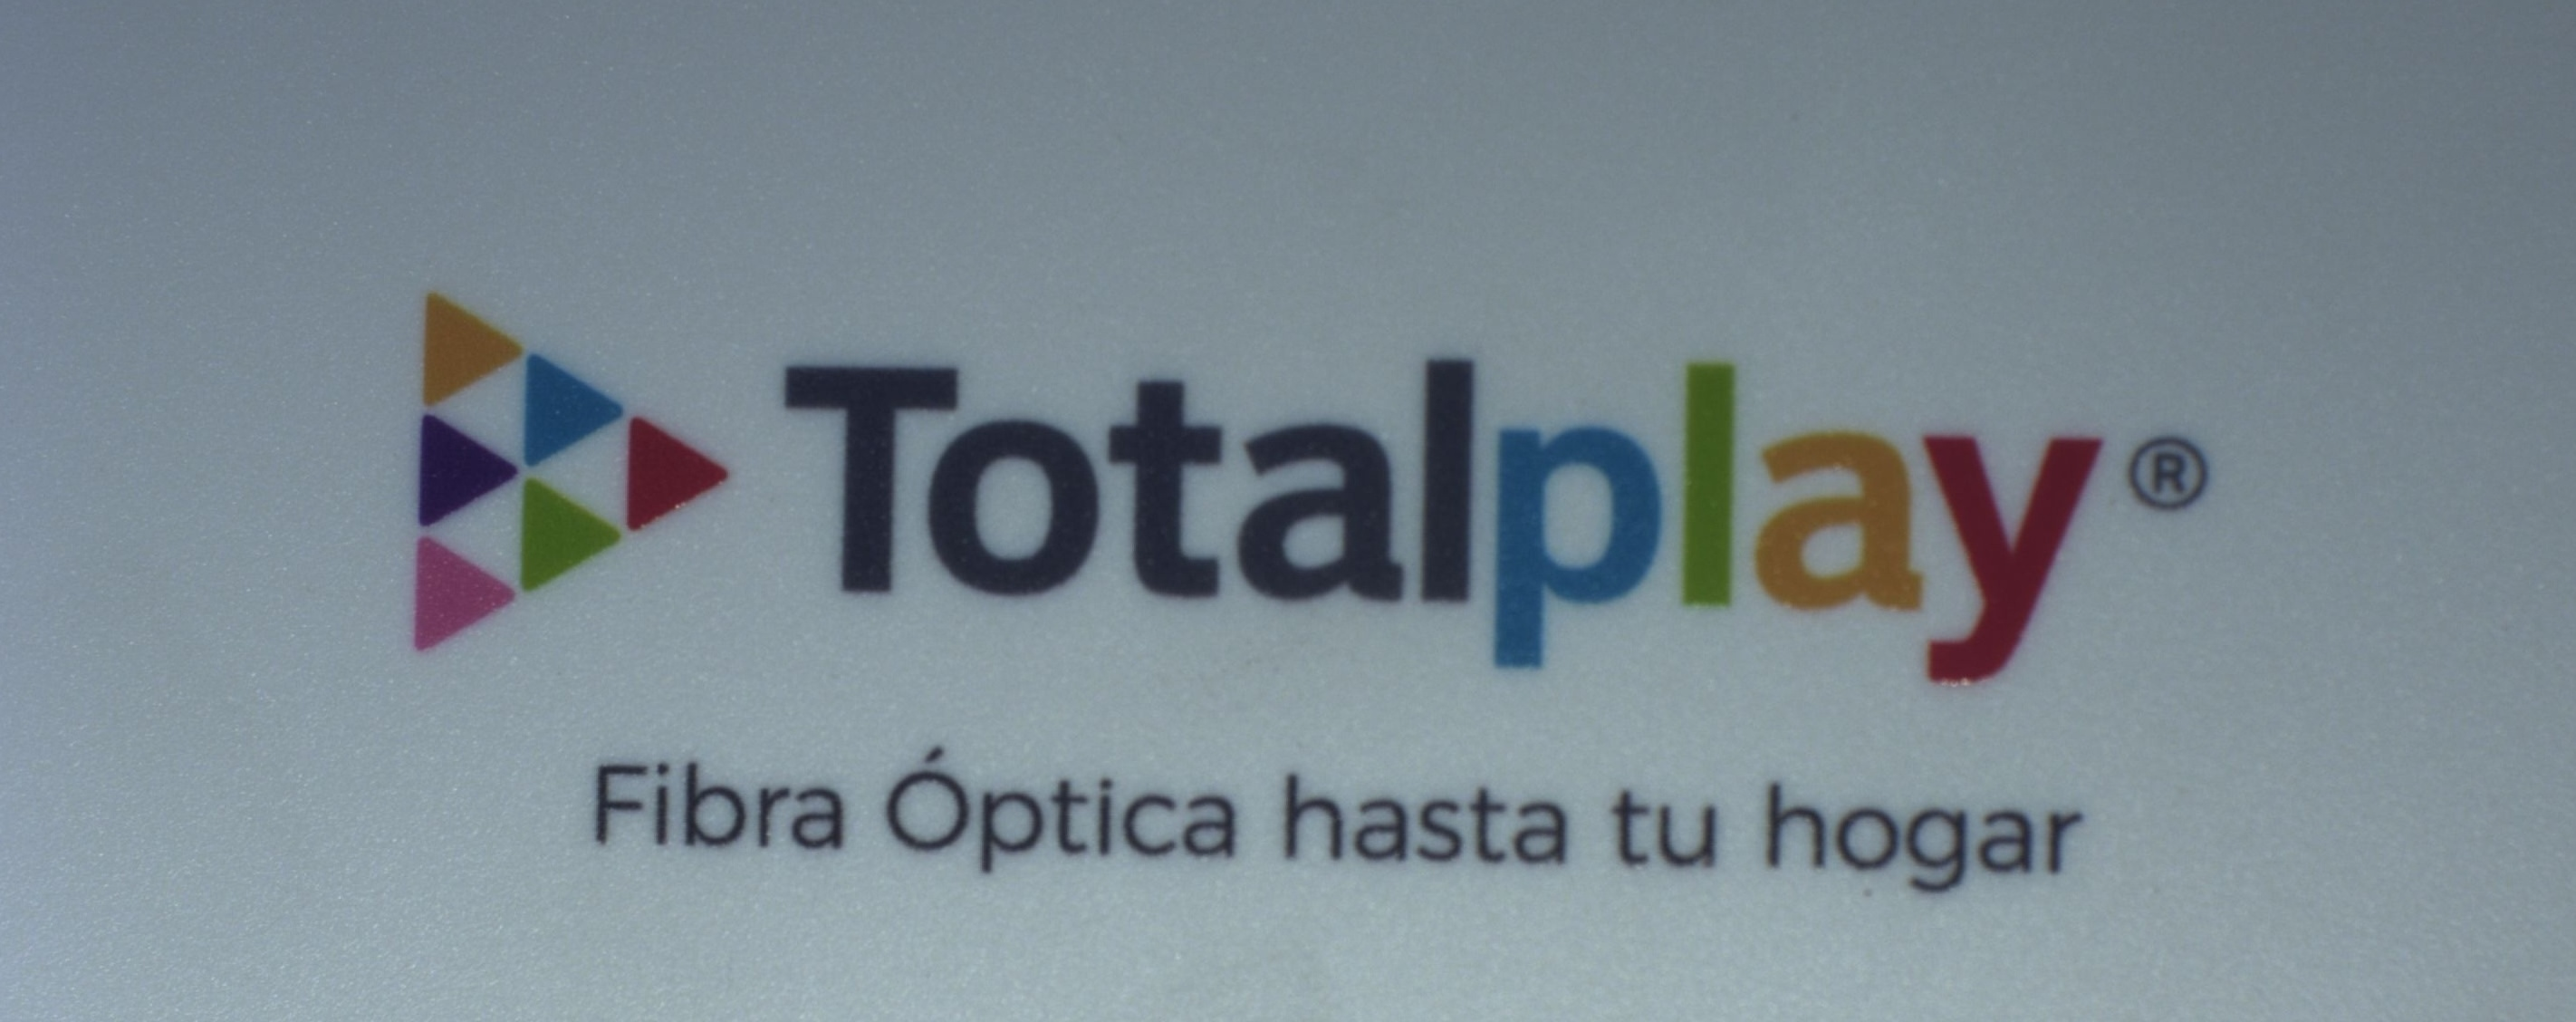BP_TotalPlay: (406, 276, 2251, 897)
